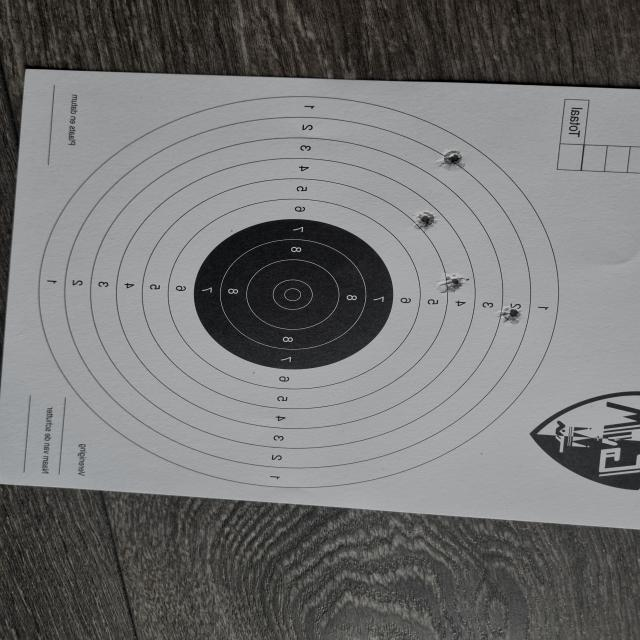2: (438, 151, 465, 169)
3: (497, 307, 521, 324)
5: (439, 274, 466, 294), (412, 212, 434, 232)
Target: (37, 95, 557, 488)
black_contour: (191, 218, 393, 370)
